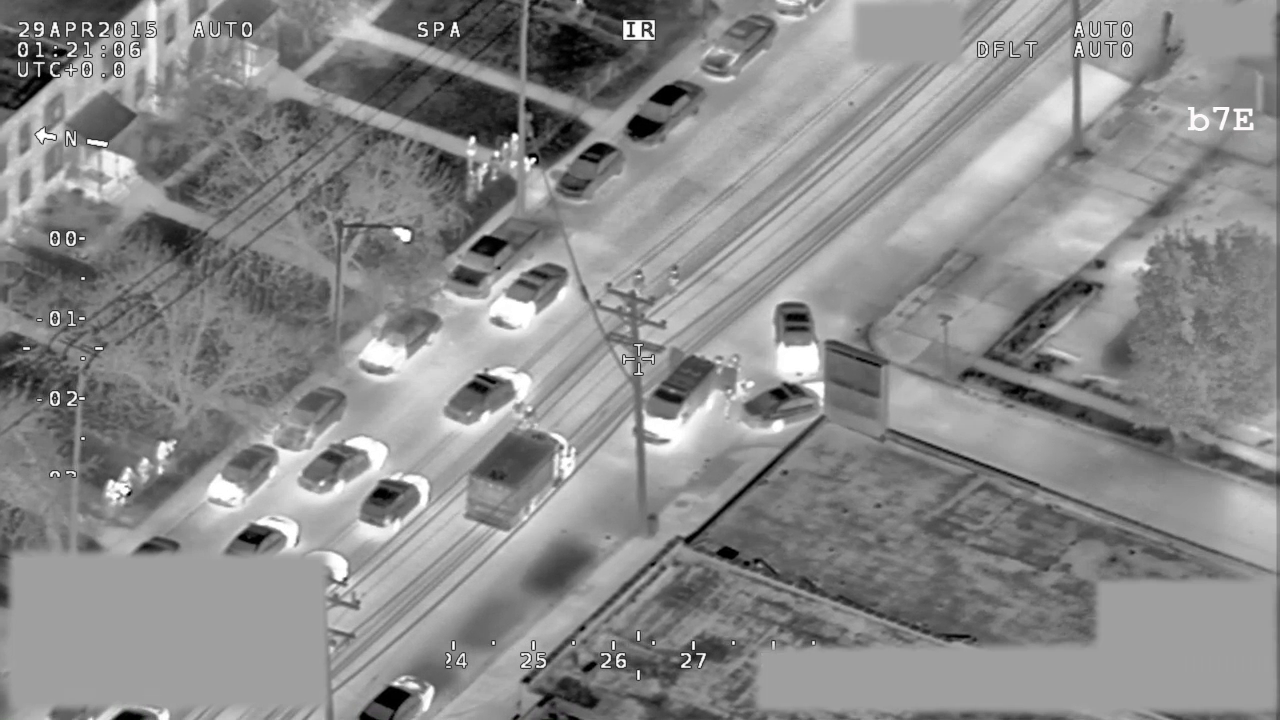vehicle: (461, 423, 577, 536), (632, 345, 740, 452), (440, 213, 546, 304), (354, 462, 437, 545), (441, 362, 533, 436), (295, 434, 393, 503), (359, 303, 443, 378), (621, 77, 709, 148), (199, 441, 285, 513), (483, 260, 570, 330), (267, 385, 347, 458), (696, 14, 780, 83), (550, 141, 628, 206), (739, 378, 826, 433), (769, 296, 823, 379), (354, 673, 438, 720), (215, 514, 304, 553)
